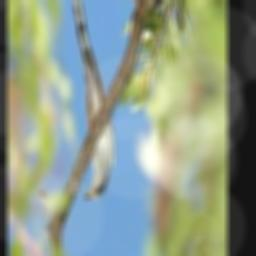Cuckoo: (72, 0, 114, 199)
